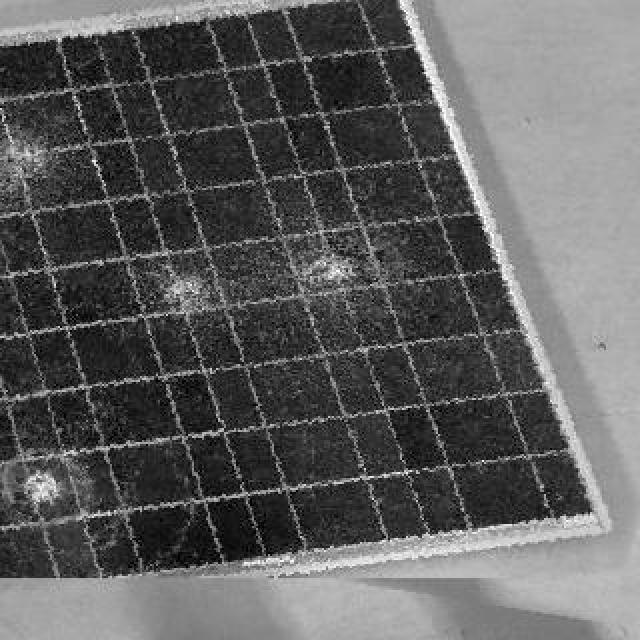Physical-damage: (14, 414, 125, 552), (290, 231, 419, 345), (155, 235, 253, 357), (8, 114, 91, 254)
